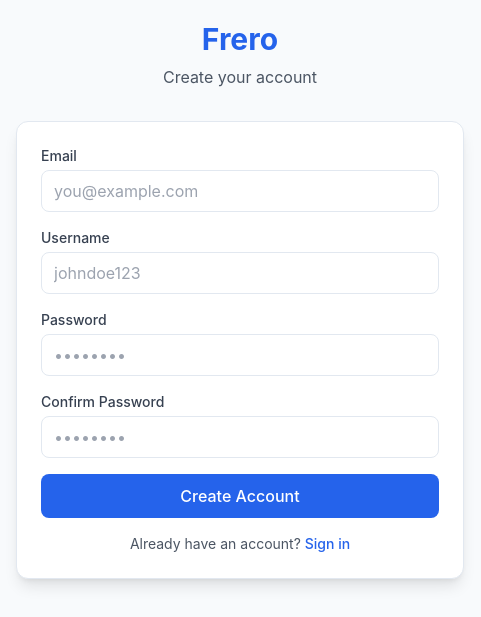
Test: RegisterPage › shows username validation error for short username
This screenshot has width=481, height=617.
Type "user@example.com" into the field labelled "Email" at [240, 191], box [41, 170, 439, 212]
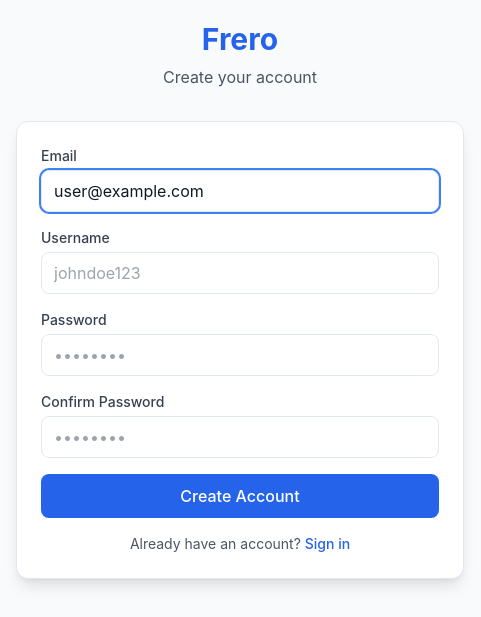
Type "ab" into the field labelled "Username" at [240, 273], box [41, 252, 439, 294]
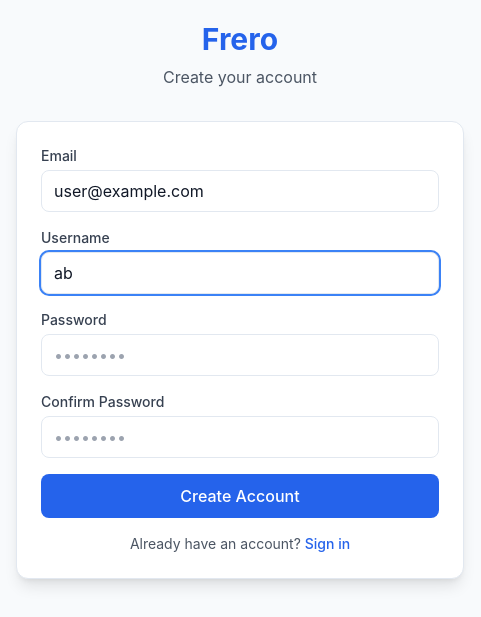
Type "P@ssw0rd!" into the password field labelled "Password" at [240, 355], box [41, 334, 439, 376]
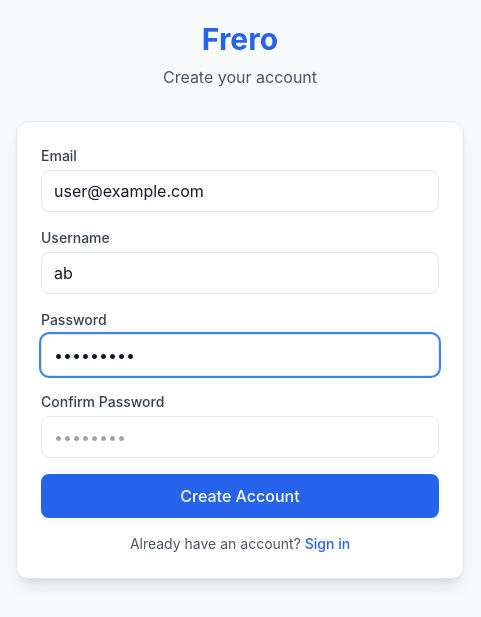
Type "P@ssw0rd!" into the password field labelled "Confirm Password" at [240, 437], box [41, 416, 439, 458]
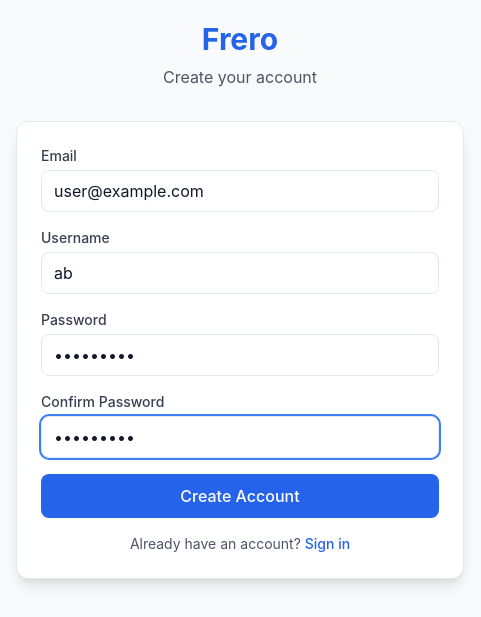
Click the button "Create Account" at [240, 496], box [41, 474, 439, 518]
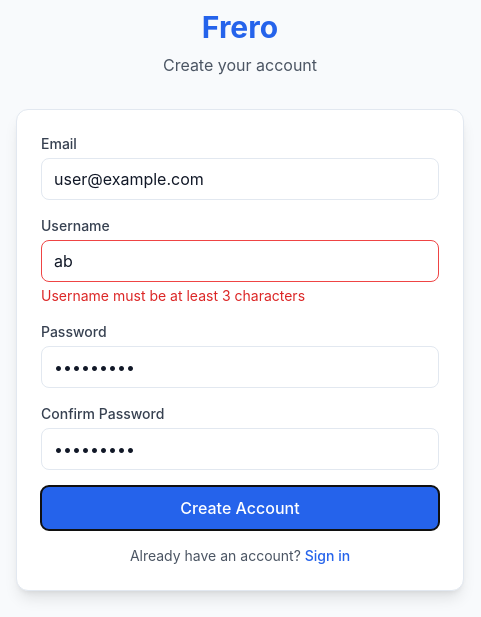
Now the text "Username must be at least 3 characters" is shown, box [41, 287, 305, 304]
